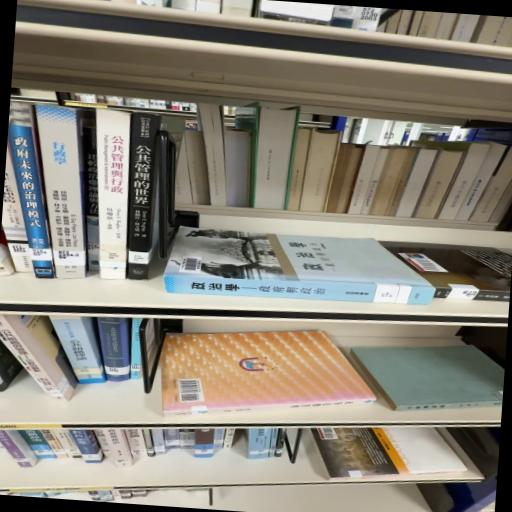flat: (165, 228, 435, 306), (162, 332, 377, 418)
